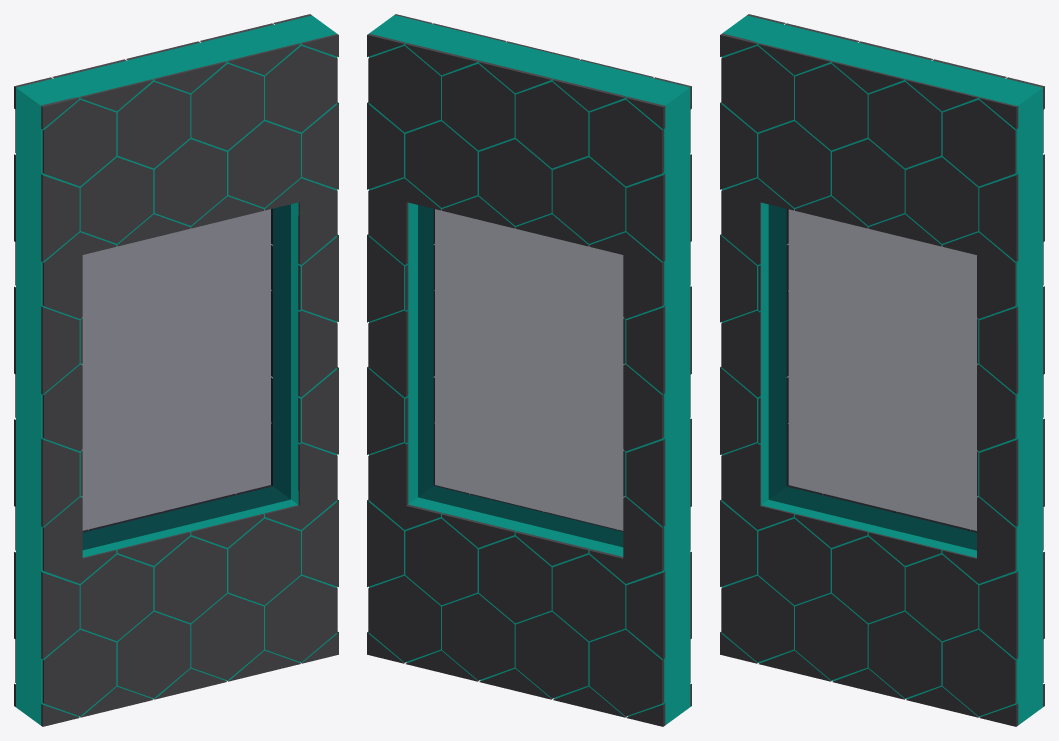
Rendered from HexagonGridWindow.glb.
The picture shows the model from 3 angles, left to right: view 1: azimuth 30°, elevation 25°; view 2: azimuth 150°, elevation 25°; view 3: azimuth 330°, elevation 25°; orthographic projection.
Visible parts, largest first — view 1: wall_hexagon_window; view 2: wall_hexagon_window; view 3: wall_hexagon_window.
Part boxes in pixels (<box>): wall_hexagon_window: <box>14,14,338,726</box>; wall_hexagon_window: <box>367,14,691,726</box>; wall_hexagon_window: <box>720,14,1044,726</box>.
Size of what is drawn, in the model's own units: 2 by 4 by 0.3346.
Materials: 3 (3 with a texture image).
